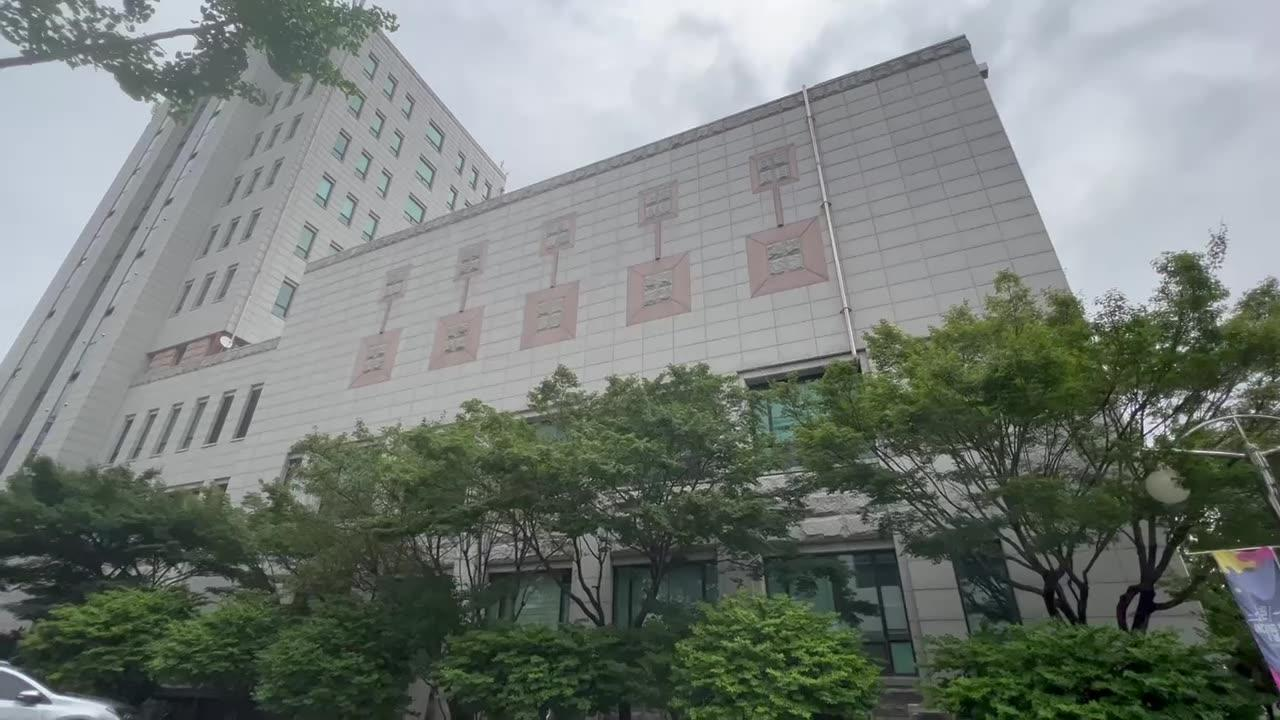building: (100, 108, 826, 391)
